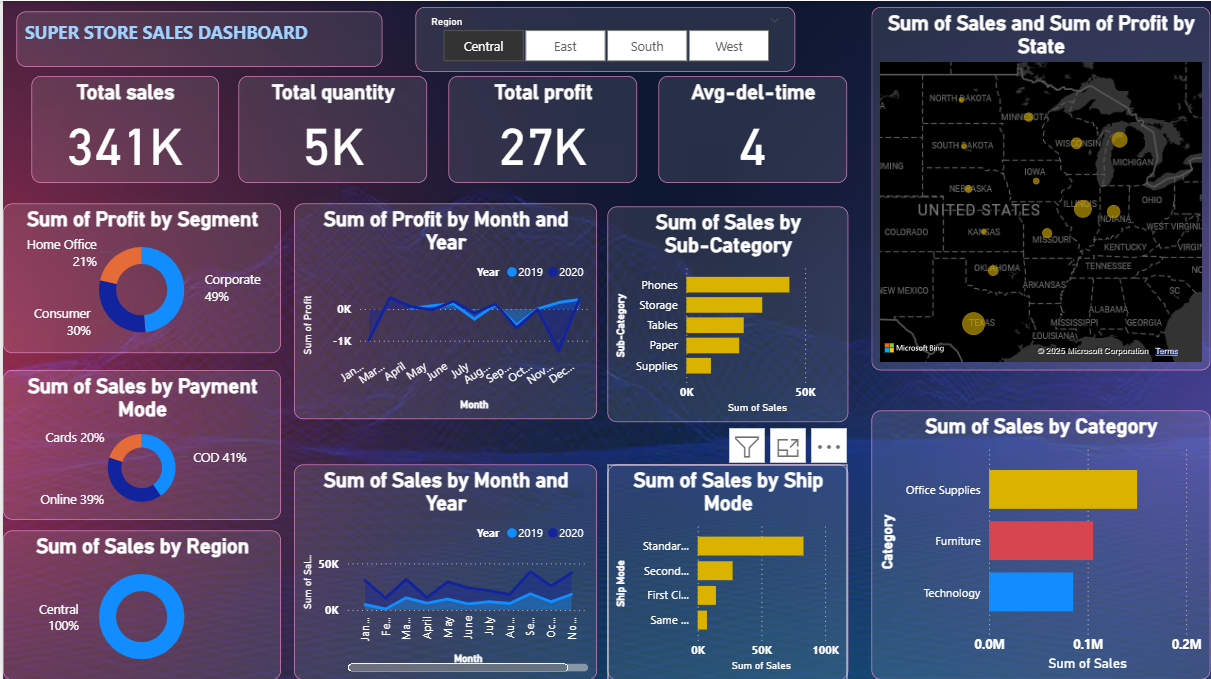

The page's visual inventory and layout, read from the dashboard file:
{"tool":"powerbi","page":{"name":"SALES DASHBOARD","canvas":[1280,720],"ordinal":0},"visuals":[{"type":"clusteredBarChart","fields":{"Category":["SuperStore_Sales_Dataset.Category"],"Y":["Sum(SuperStore_Sales_Dataset.Sales)"]},"box":[920.3,434.6,359.1,285.4],"z":0},{"type":"clusteredBarChart","fields":{"Y":["Sum(SuperStore_Sales_Dataset.Sales)"],"Category":["SuperStore_Sales_Dataset.Sub-Category"]},"box":[640.6,217.3,255.1,228.7],"z":1000},{"type":"clusteredBarChart","fields":{"Y":["Sum(SuperStore_Sales_Dataset.Sales)"],"Category":["SuperStore_Sales_Dataset.Ship Mode"]},"box":[640.6,491.3,255.1,228.7],"z":2000},{"type":"stackedAreaChart","fields":{"Y":["Sum(SuperStore_Sales_Dataset.Sales)"],"Series":["SuperStore_Sales_Dataset.Order Date.Variation.Date Hierarchy.Year"],"Category":["SuperStore_Sales_Dataset.Order Date.Variation.Date Hierarchy.Month","SuperStore_Sales_Dataset.Order Date.Variation.Date Hierarchy.Day"]},"box":[308,491.3,321.3,228.7],"z":3000},{"type":"stackedAreaChart","fields":{"Series":["SuperStore_Sales_Dataset.Order Date.Variation.Date Hierarchy.Year"],"Category":["SuperStore_Sales_Dataset.Order Date.Variation.Date Hierarchy.Month"],"Y":["Sum(SuperStore_Sales_Dataset.Profit)"]},"box":[308,215.4,321.3,228.7],"z":4000},{"type":"map","fields":{"Category":["SuperStore_Sales_Dataset.State"],"Size":["Sum(SuperStore_Sales_Dataset.Sales)"]},"box":[920.3,5.7,359.1,385.5],"z":5000},{"type":"donutChart","fields":{"Category":["SuperStore_Sales_Dataset.Segment"],"Y":["Sum(SuperStore_Sales_Dataset.Profit)"]},"box":[0,215.4,294.8,158.7],"z":6000},{"type":"donutChart","fields":{"Y":["Sum(SuperStore_Sales_Dataset.Sales)"],"Category":["SuperStore_Sales_Dataset.Payment Mode"]},"box":[0,391.2,294.8,158.7],"z":7000},{"type":"donutChart","fields":{"Y":["Sum(SuperStore_Sales_Dataset.Sales)"],"Category":["SuperStore_Sales_Dataset.Region"]},"box":[0,561.3,294.8,158.7],"z":8000},{"type":"slicer","fields":{"Values":["SuperStore_Sales_Dataset.Region"]},"box":[437.4,6.4,402.4,68.4],"z":9000},{"type":"textbox","box":[14.3,11.1,388.1,58.9],"z":10000},{"type":"card","title":"Total sales","fields":{"Values":["Sum(SuperStore_Sales_Dataset.Sales)"]},"box":[30.2,79.4,198.4,113.4],"z":11000},{"type":"card","title":"Total profit","fields":{"Values":["Sum(SuperStore_Sales_Dataset.Profit)"]},"box":[472.4,79.4,200.3,113.4],"z":12000},{"type":"card","title":"Total quantity","fields":{"Values":["Sum(SuperStore_Sales_Dataset.Quantity)"]},"box":[249.5,79.4,200,113.4],"z":13000},{"type":"card","title":"Avg-del-time","fields":{"Values":["Avg(SuperStore_Sales_Dataset.AVGdelivery)"]},"box":[695.4,79.4,200.3,113.4],"z":14000}]}

Visuals, with their boxes in screenshot pixels (x1, y1, x2, y2), scaled from the page's 1280x720 canvas onto the 1211x679 screenshot:
clusteredBarChart - SuperStore_Sales_Dataset.Category x Sum(SuperStore_Sales_Dataset.Sales): bbox=(871, 410, 1210, 678)
clusteredBarChart - Sum(SuperStore_Sales_Dataset.Sales) x SuperStore_Sales_Dataset.Sub-Category: bbox=(606, 205, 847, 421)
clusteredBarChart - Sum(SuperStore_Sales_Dataset.Sales) x SuperStore_Sales_Dataset.Ship Mode: bbox=(606, 463, 847, 678)
stackedAreaChart - Sum(SuperStore_Sales_Dataset.Sales) x SuperStore_Sales_Dataset.Order Date.Variation.Date Hierarchy.Year: bbox=(291, 463, 595, 678)
stackedAreaChart - SuperStore_Sales_Dataset.Order Date.Variation.Date Hierarchy.Year x SuperStore_Sales_Dataset.Order Date.Variation.Date Hierarchy.Month: bbox=(291, 203, 595, 419)
map - SuperStore_Sales_Dataset.State x Sum(SuperStore_Sales_Dataset.Sales): bbox=(871, 5, 1210, 369)
donutChart - SuperStore_Sales_Dataset.Segment x Sum(SuperStore_Sales_Dataset.Profit): bbox=(0, 203, 279, 353)
donutChart - Sum(SuperStore_Sales_Dataset.Sales) x SuperStore_Sales_Dataset.Payment Mode: bbox=(0, 369, 279, 519)
donutChart - Sum(SuperStore_Sales_Dataset.Sales) x SuperStore_Sales_Dataset.Region: bbox=(0, 529, 279, 678)
slicer - SuperStore_Sales_Dataset.Region: bbox=(414, 6, 795, 71)
textbox: bbox=(14, 10, 381, 66)
"Total sales" card: bbox=(29, 75, 216, 182)
"Total profit" card: bbox=(447, 75, 636, 182)
"Total quantity" card: bbox=(236, 75, 425, 182)
"Avg-del-time" card: bbox=(658, 75, 847, 182)
